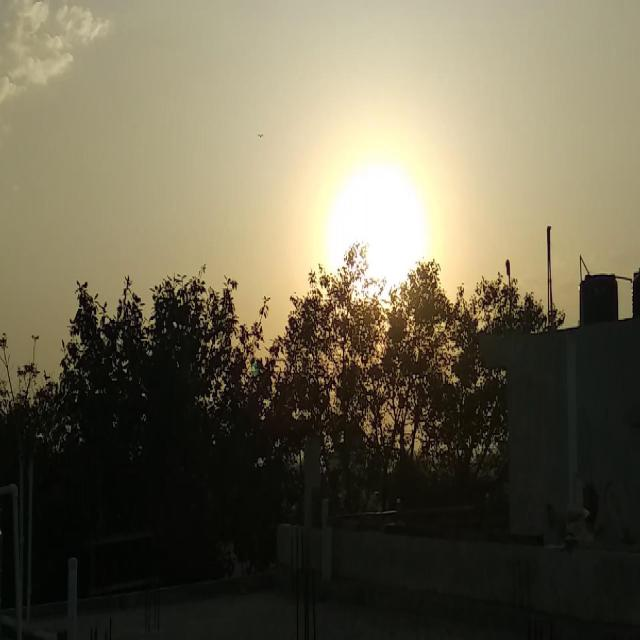other: (309, 116, 439, 355)
